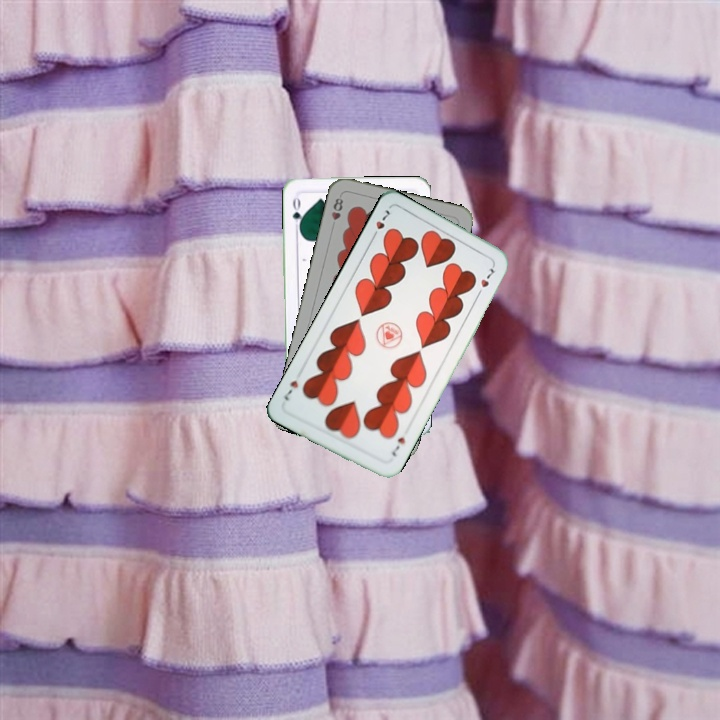GO: (288, 192, 305, 232)
H7: (368, 205, 392, 242), (387, 433, 408, 459)
H8: (327, 194, 346, 222)
